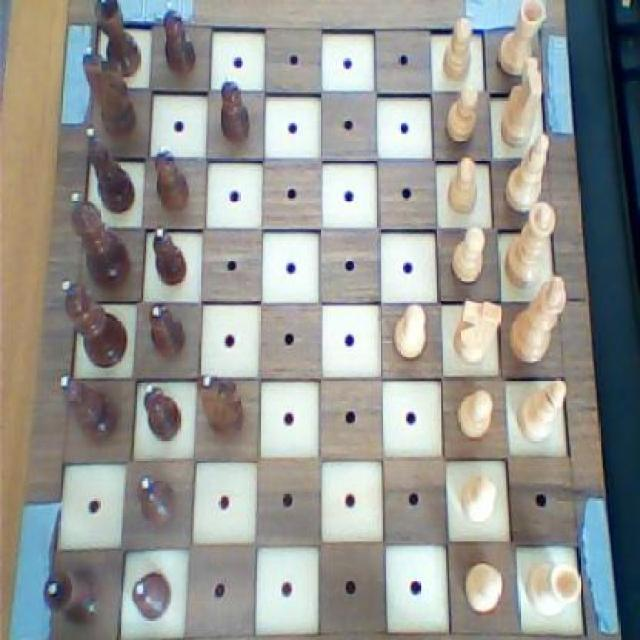bishop: (80, 125, 138, 216), (54, 372, 120, 448)
black-bishop: (60, 275, 132, 370)
black-king: (80, 44, 142, 140), (195, 370, 250, 446)
black-knight: (158, 8, 201, 83), (150, 142, 192, 214), (142, 382, 186, 446), (146, 302, 191, 364), (151, 220, 191, 288), (216, 76, 254, 146), (137, 469, 180, 530), (129, 566, 174, 621)
black-pawn: (66, 189, 134, 291)
black-queen: (42, 562, 108, 630), (92, 0, 146, 81)
black-rook: (500, 129, 555, 220), (512, 375, 572, 448)
white-bishop: (506, 272, 569, 368)
white-king: (494, 54, 547, 152), (449, 297, 504, 372)
white-knight: (386, 302, 431, 366), (441, 82, 484, 148), (437, 13, 475, 86), (451, 223, 489, 292), (446, 153, 485, 220), (463, 560, 505, 622), (457, 469, 500, 529), (454, 384, 495, 440)
white-pawn: (500, 199, 558, 293)
white-queen: (520, 551, 586, 626), (495, 0, 548, 78)
